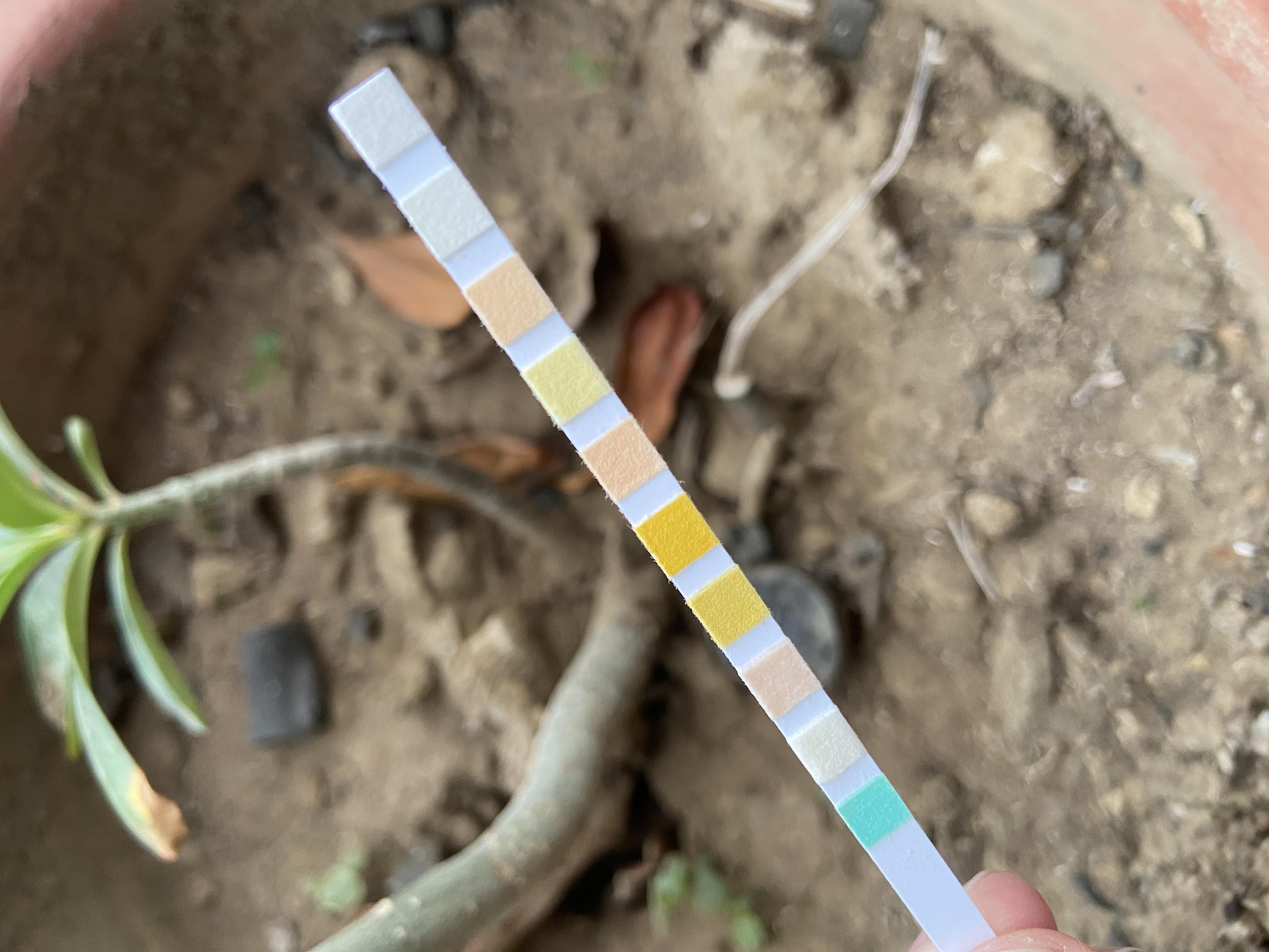Bilirubin: (810, 722, 845, 771)
Blood: (658, 508, 695, 561)
Glucose: (859, 789, 891, 834)
Ketone: (763, 656, 798, 703)
Leukocytes: (359, 90, 404, 145)
Nitrite: (421, 183, 470, 238)
Protein: (546, 354, 588, 406)
SpGravity: (711, 583, 750, 632)
Urobilinogen: (488, 271, 531, 326)
pH: (603, 434, 644, 485)
strip: (329, 70, 996, 952)
